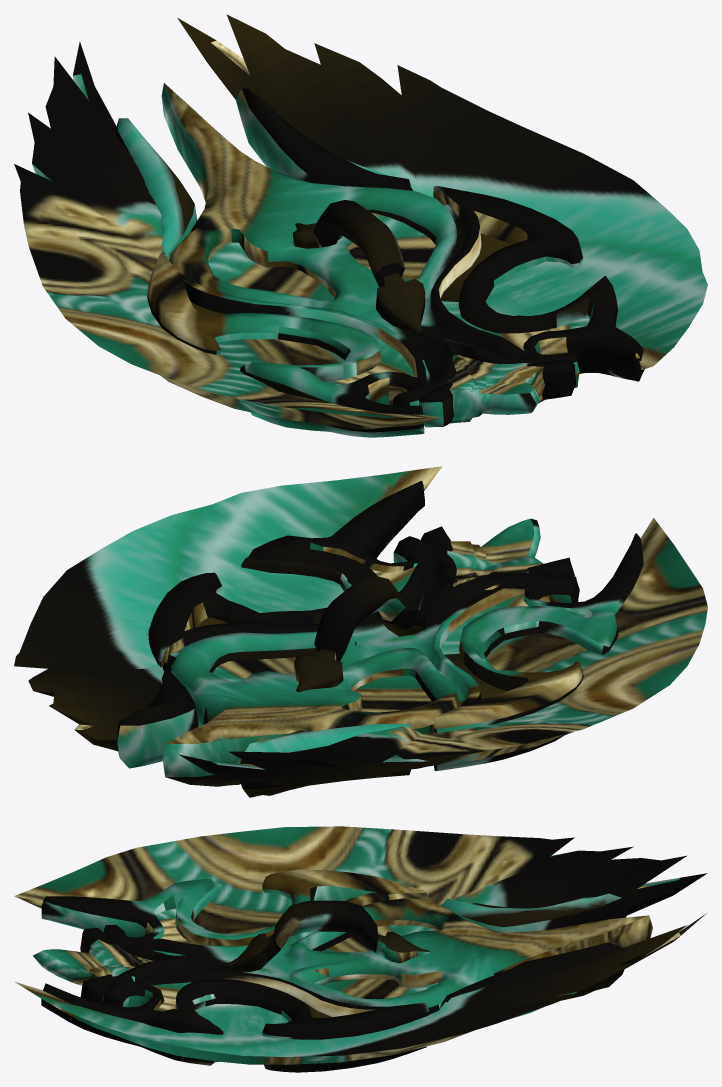
Rendered from KingAuthurShield.fbx.
3 views of the same model, one above another, from view 1: azimuth 30°, elevation 25°; view 2: azimuth 150°, elevation 25°; view 3: azimuth 270°, elevation 25° (orthographic). The views are drawn at different scales.
Visible parts, largest first — view 1: Object_4; view 2: Object_4; view 3: Object_4.
Part boxes in pixels (<box>): Object_4: <box>14,14,707,437</box>; Object_4: <box>14,466,707,797</box>; Object_4: <box>14,826,707,1072</box>.
Size of the model in its own units: 99.82 by 27.26 by 127.
